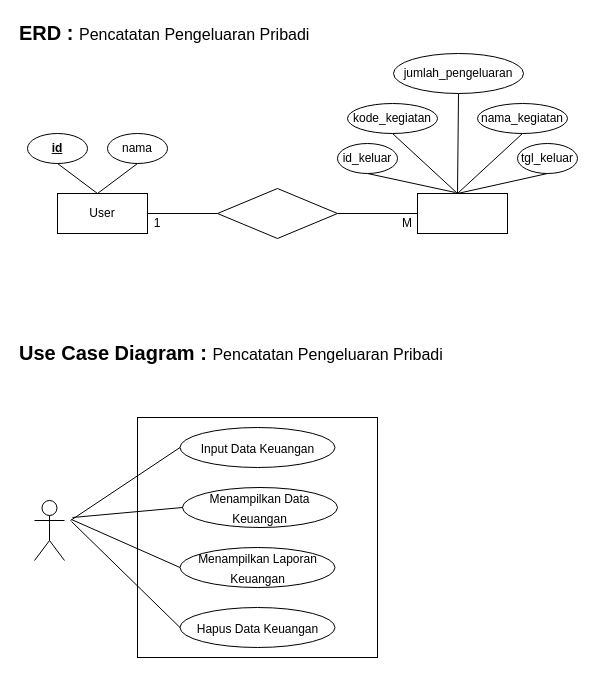
This 595x675 diagram has some shape labels left out. Here are the shapes that lost their labels. From the top down, the box of each, then its label:
(216, 188, 338, 238): Menginput
(416, 192, 508, 234): Pengeluaran
(34, 500, 64, 560): Actor
